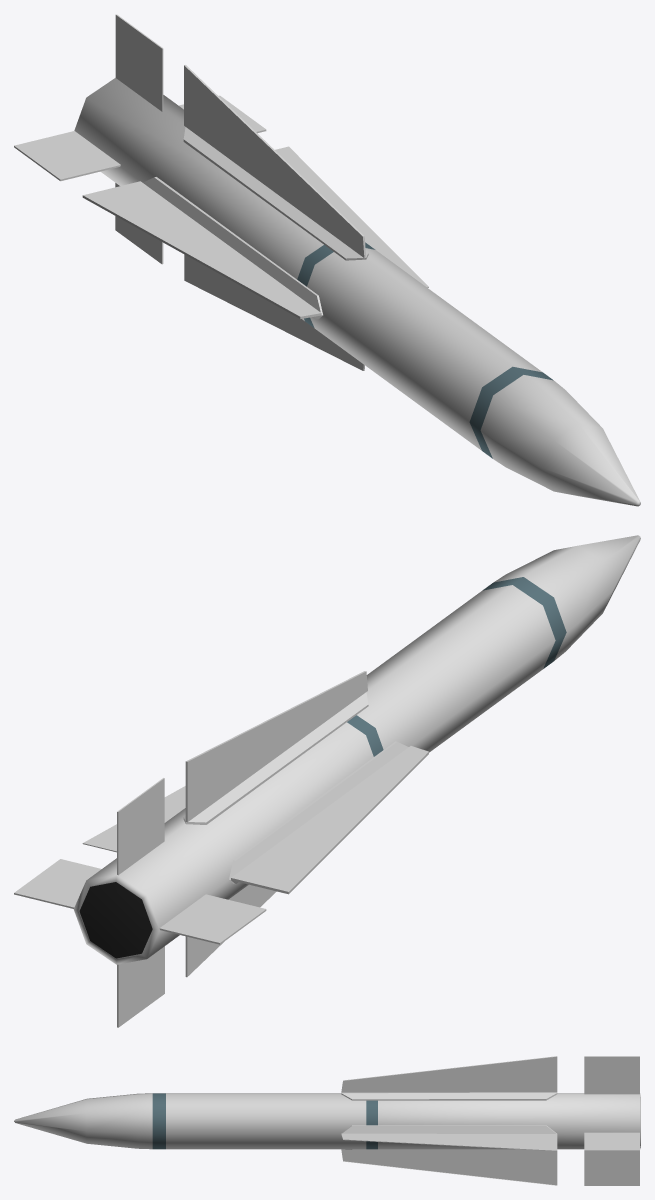
Rendered from AIM54-Phoenix.glb.
3 views of the same model, one above another, from view 1: azimuth 30°, elevation 25°; view 2: azimuth 150°, elevation 25°; view 3: azimuth 270°, elevation 25° (orthographic). The views are drawn at different scales.
Visible parts, largest first — view 1: AIM-54 Phoenix.002; view 2: AIM-54 Phoenix.002; view 3: AIM-54 Phoenix.002.
Boxes of the visible parts, left/top/right/bottom form: AIM-54 Phoenix.002: left=14, top=14, right=640, bottom=506; AIM-54 Phoenix.002: left=14, top=535, right=640, bottom=1027; AIM-54 Phoenix.002: left=14, top=1056, right=640, bottom=1185.
Size of the model in its own units: 0.9086 by 0.9086 by 4.
